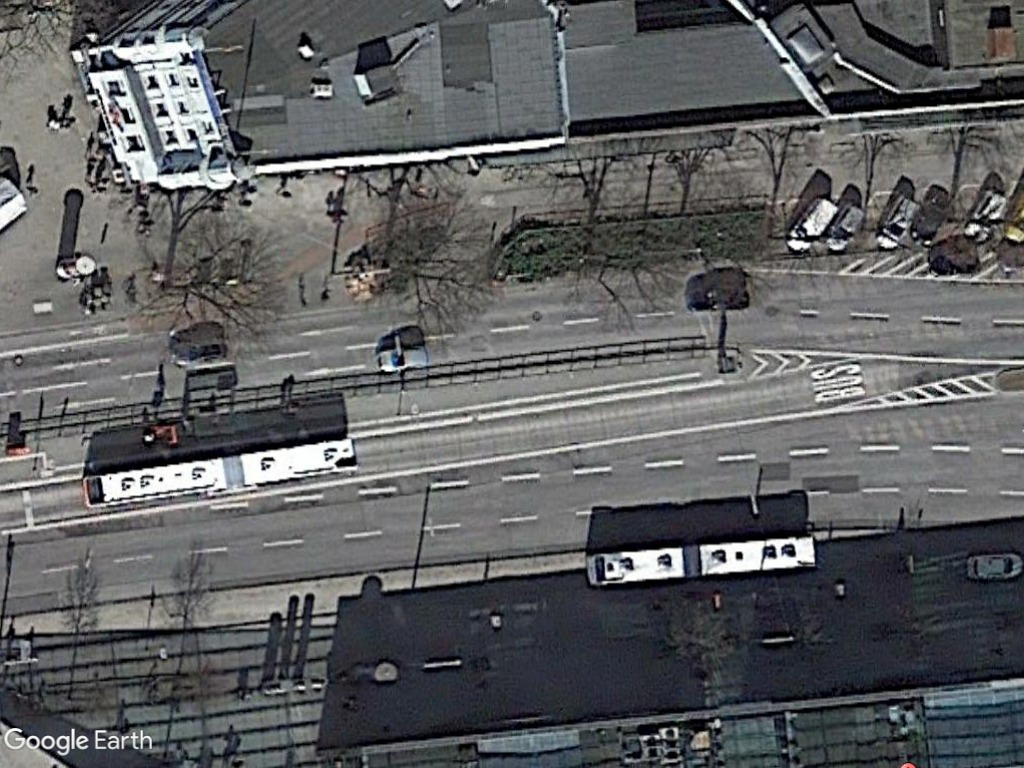bus: (80, 444, 232, 513), (232, 430, 362, 492), (690, 533, 820, 581), (582, 543, 691, 593)
car: (372, 341, 429, 375)
